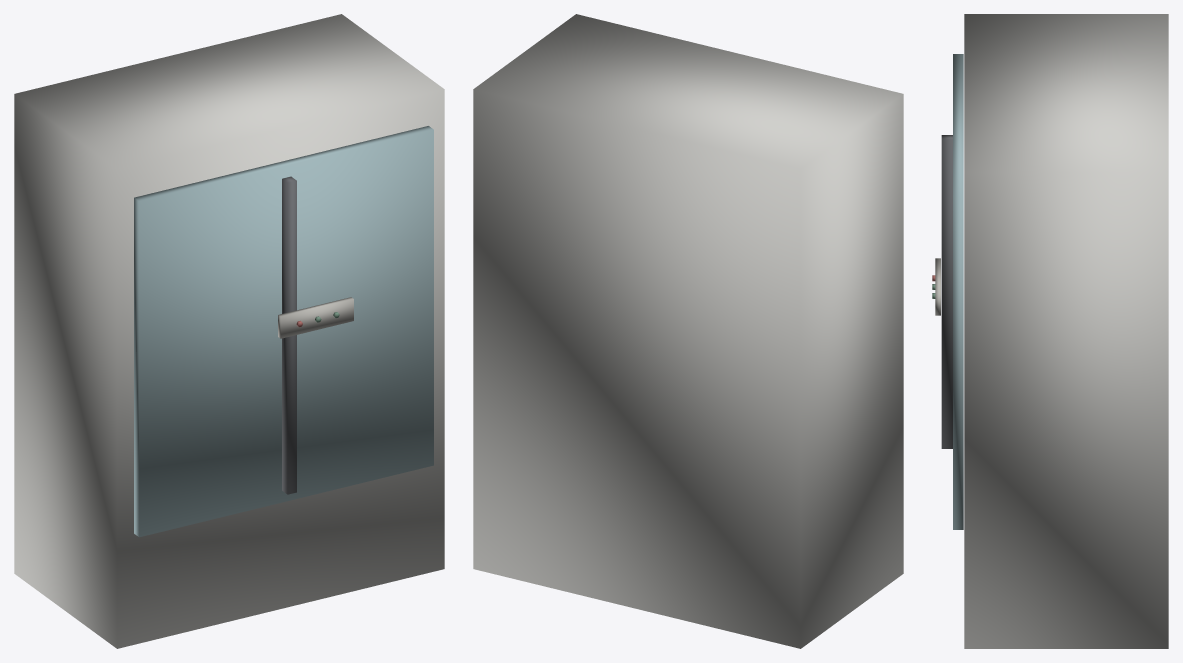
The model's file is freezer_chest.glb.
3 renders of one model, left to right at view 1: azimuth 30°, elevation 25°; view 2: azimuth 150°, elevation 25°; view 3: azimuth 270°, elevation 25°, orthographic.
Visible parts, largest first — view 1: world; view 2: world; view 3: world.
Part boxes in pixels (x1,y1,x2,y2): world: [14, 14, 444, 648]; world: [473, 14, 903, 648]; world: [932, 14, 1168, 648].
Size of the model in its own units: 1.25 by 1.75 by 0.786.
